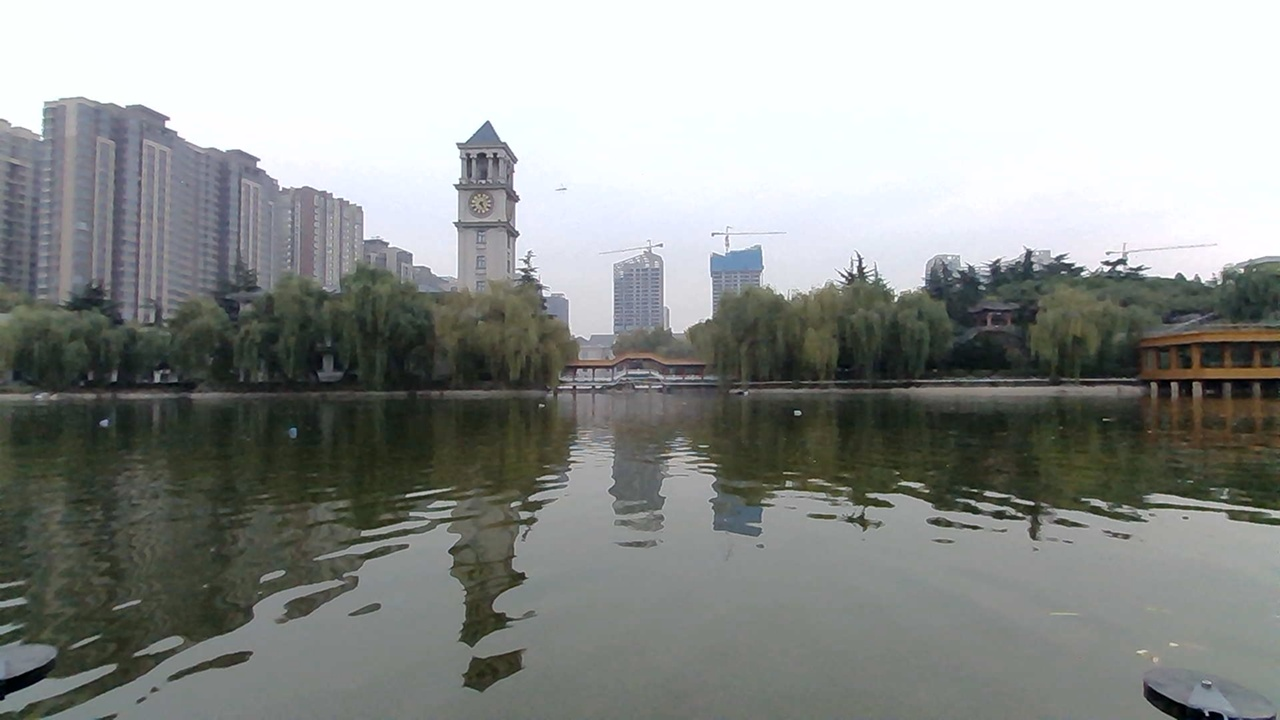bottle: (768, 403, 811, 427), (276, 420, 310, 442), (95, 404, 116, 432)
